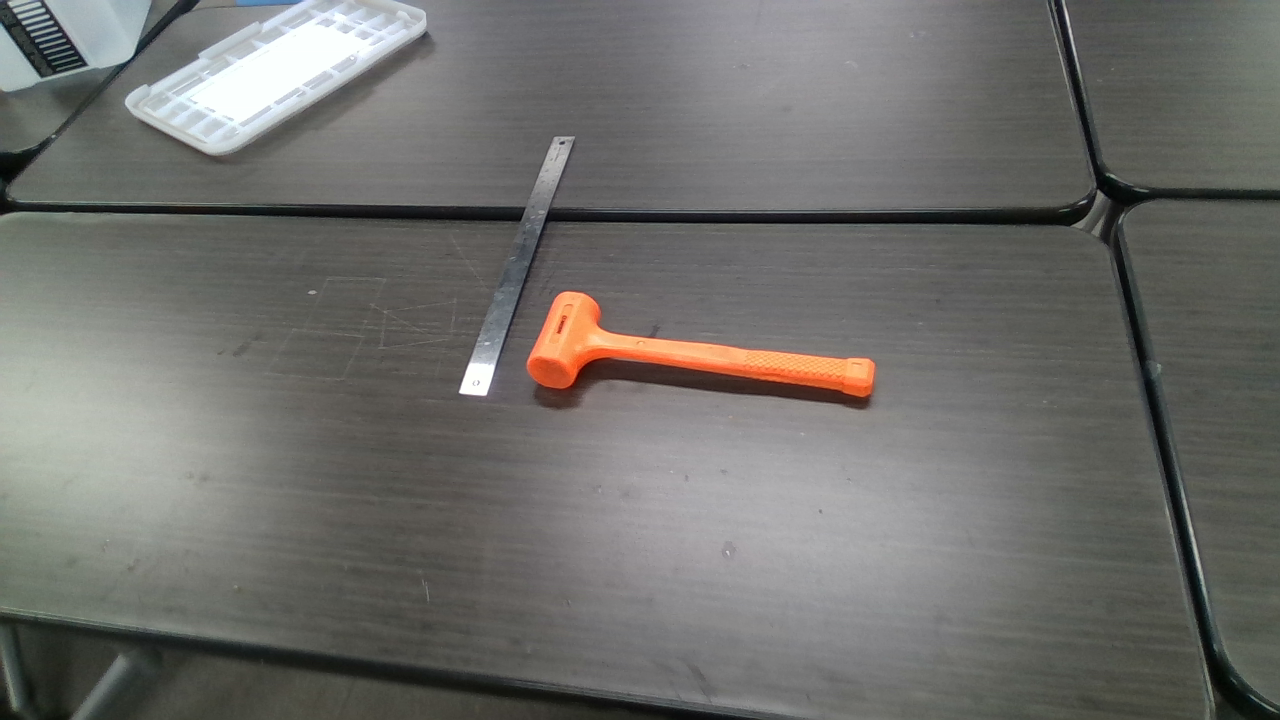Orange Hammer: (529, 293, 872, 401)
